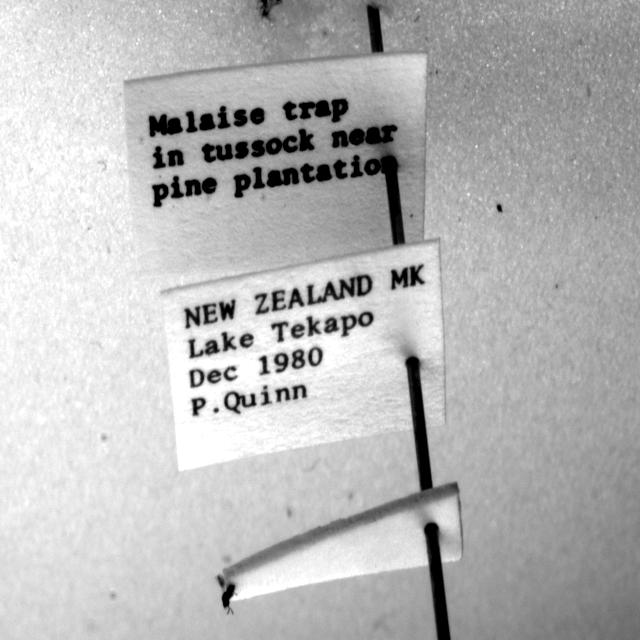typed_label: (124, 52, 428, 278), (162, 240, 445, 471)
